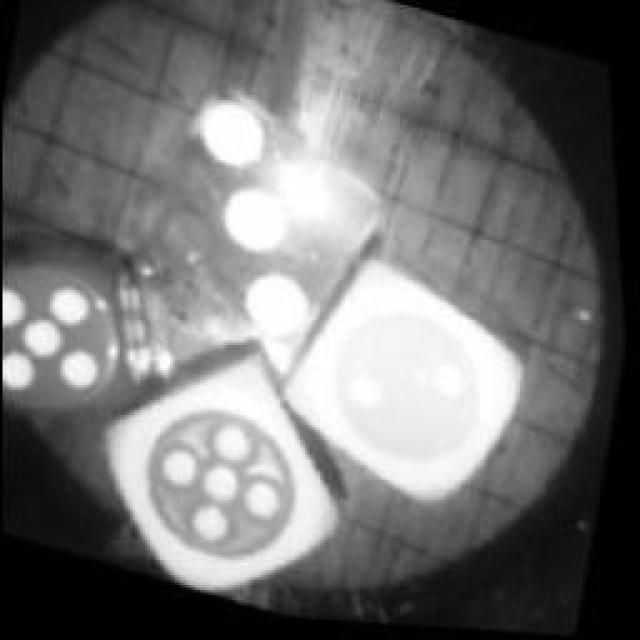dice_2: (258, 214, 562, 541)
dice_3: (109, 63, 421, 385)
dice_5: (70, 310, 382, 628), (0, 220, 178, 468)
